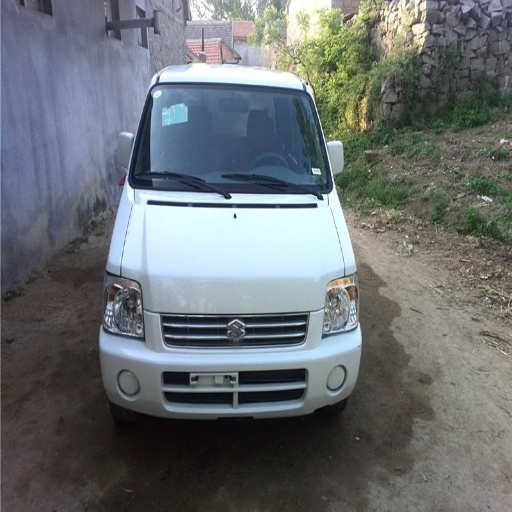front_bumper: (98, 308, 362, 418)
front_right_light: (104, 269, 144, 339)
hood: (119, 188, 345, 310)
